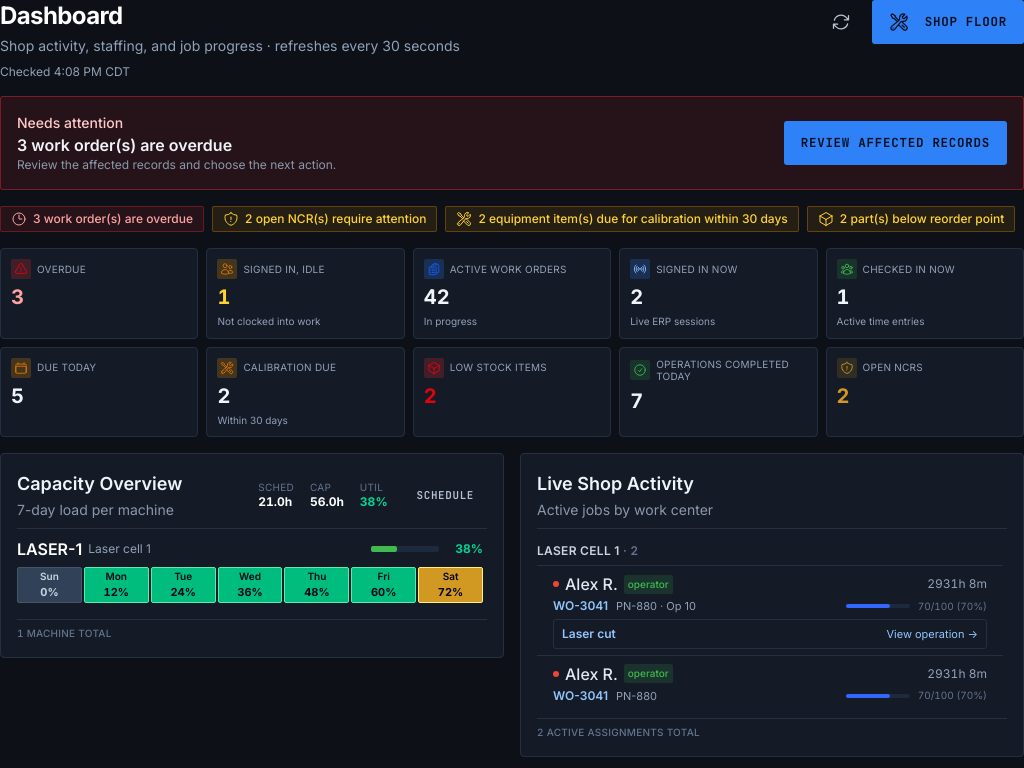
Scenario: dashboard operation details and nest PDF › opens ordinary operations without nest controls and leaves indirect labor at work-order scope
The image size is (1024, 768).
Click the button with aria-label "View operation details for Laser cut": x=589, y=633 [553,618,987,648]
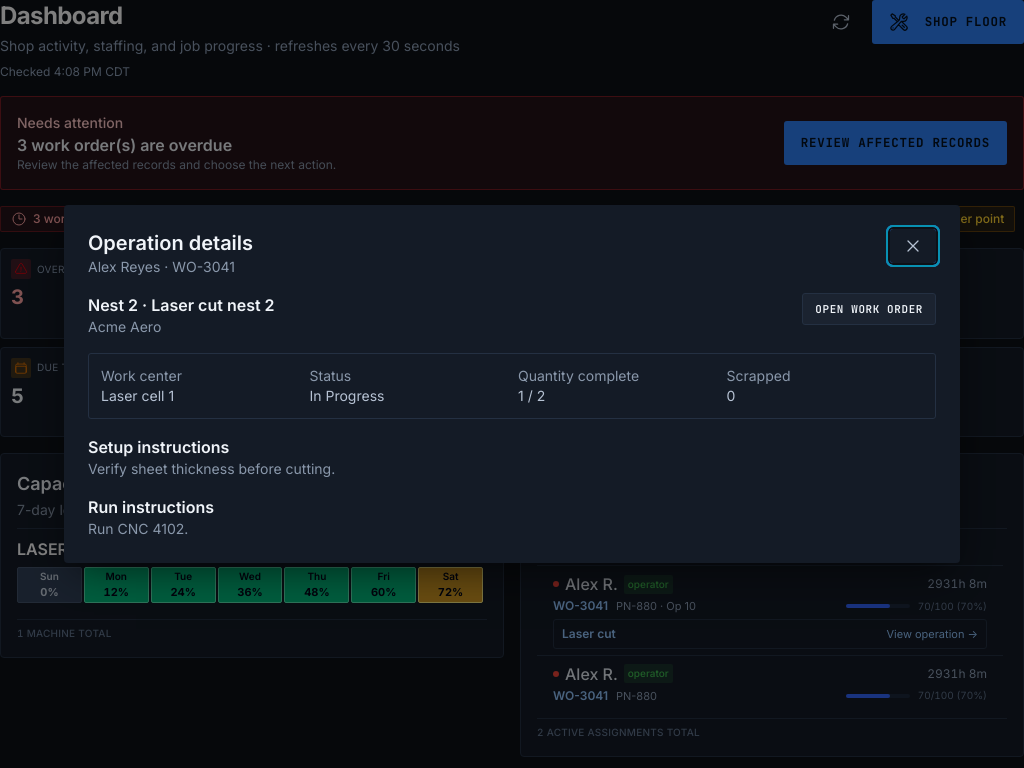
Result: the text "Run CNC 4102." is shown at [88,520,188,537]
